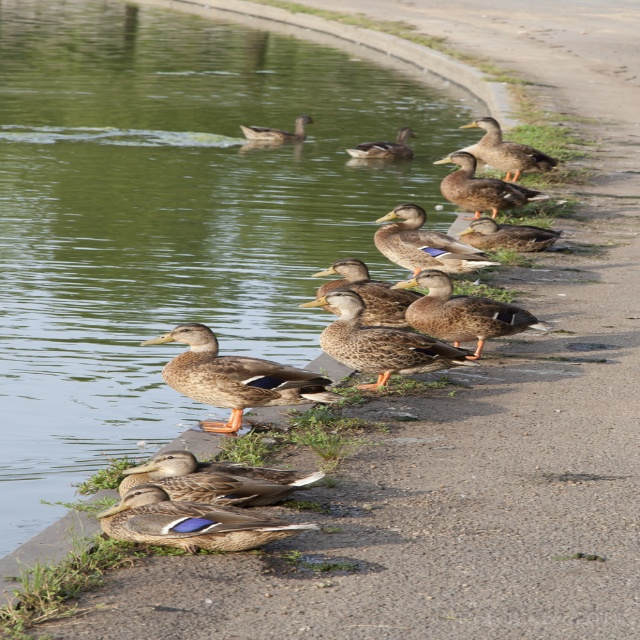Duck: (139, 317, 351, 435), (293, 287, 467, 385), (93, 481, 316, 551), (375, 202, 500, 290), (124, 442, 329, 482), (451, 114, 551, 184), (310, 254, 423, 315), (427, 149, 537, 206), (456, 209, 557, 260), (349, 126, 420, 162), (237, 114, 316, 141)
